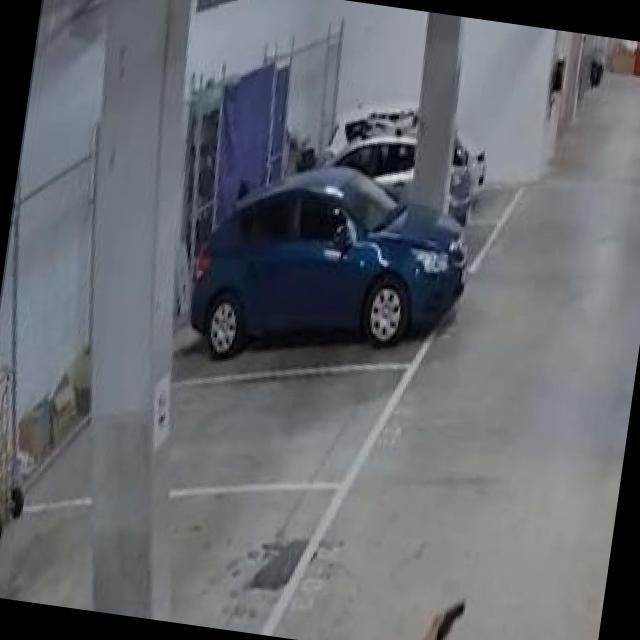Guns: (416, 587, 471, 640)
